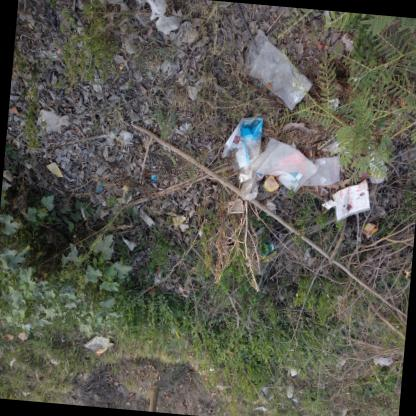Paper: (331, 178, 369, 222)
Plastic: (243, 28, 312, 109), (248, 137, 318, 192), (221, 116, 262, 170), (301, 155, 339, 185), (138, 0, 165, 20), (368, 154, 387, 182), (36, 109, 61, 130), (240, 170, 257, 199), (48, 158, 69, 179), (362, 222, 377, 239), (45, 161, 62, 176), (174, 121, 191, 136), (238, 165, 252, 182), (322, 138, 340, 151), (227, 198, 243, 212), (264, 175, 278, 190), (171, 214, 185, 227), (372, 356, 392, 365), (152, 182, 164, 190), (253, 173, 265, 180), (123, 183, 128, 191), (174, 328, 178, 338), (171, 325, 176, 333), (150, 174, 156, 180)
Waste: (82, 334, 113, 356), (179, 25, 198, 43), (137, 208, 152, 226), (121, 236, 135, 250), (121, 186, 131, 203), (320, 198, 335, 209), (265, 198, 275, 212), (328, 97, 338, 108), (264, 204, 272, 216), (266, 241, 273, 251), (145, 27, 153, 35), (95, 183, 101, 192)
